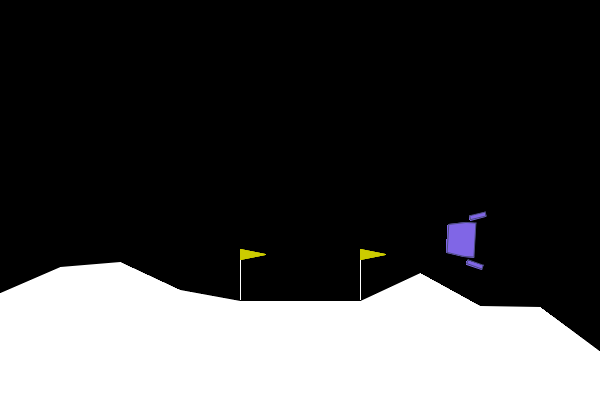lander: (444, 209, 487, 271)
